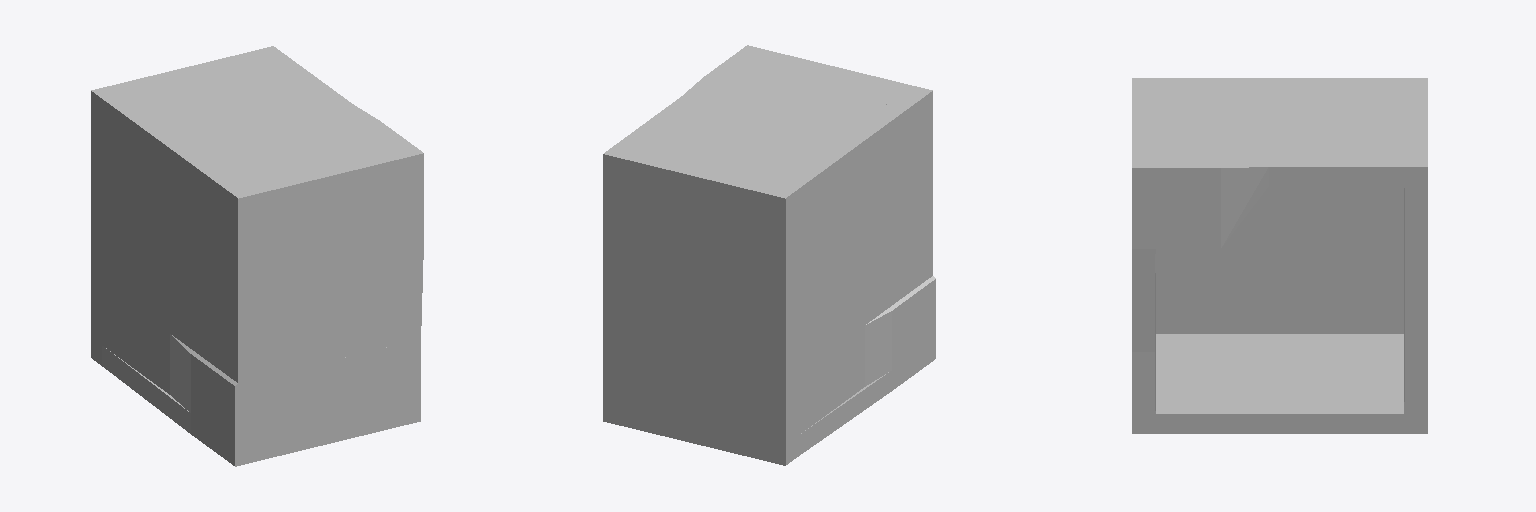
File: dt_box_back_vhacd.obj
The picture shows the model from 3 angles: view 1: azimuth 30°, elevation 25°; view 2: azimuth 150°, elevation 25°; view 3: azimuth 270°, elevation 25°; orthographic projection.
Visible parts, largest first — view 1: convex_6, convex_3, convex_2, convex_1, convex_5, convex_8, convex_9, convex_0, convex_4; view 2: convex_0, convex_1, convex_5, convex_3, convex_8, convex_9, convex_4, convex_6, convex_2; view 3: convex_4, convex_5, convex_1, convex_8, convex_7, convex_9, convex_6, convex_0, convex_3, convex_2.
Boxes of the visible parts, box(x1,y1,x2,y2) form: convex_6: box(248, 145, 423, 377); convex_3: box(170, 144, 258, 383); convex_2: box(224, 339, 420, 466); convex_1: box(91, 46, 351, 168); convex_5: box(102, 120, 169, 394); convex_8: box(191, 104, 407, 184); convex_9: box(170, 334, 226, 436); convex_0: box(91, 112, 101, 365); convex_4: box(102, 346, 223, 457); convex_0: box(603, 175, 796, 465); convex_1: box(603, 96, 864, 218); convex_5: box(797, 162, 864, 435); convex_3: box(845, 86, 932, 324); convex_8: box(685, 55, 899, 134); convex_9: box(865, 284, 924, 386); convex_4: box(797, 347, 924, 456); convex_6: box(736, 45, 911, 93); convex_2: box(922, 276, 935, 366); convex_4: box(1156, 334, 1403, 433); convex_5: box(1269, 187, 1403, 333); convex_1: box(1269, 78, 1427, 187); convex_8: box(1156, 88, 1268, 165); convex_7: box(1156, 166, 1268, 248); convex_9: box(1156, 273, 1268, 333); convex_6: box(1132, 88, 1155, 351); convex_0: box(1404, 188, 1427, 433); convex_3: box(1132, 78, 1268, 272); convex_2: box(1132, 273, 1155, 433).
Size of the model in its own units: 0.1743 by 0.2356 by 0.2356.